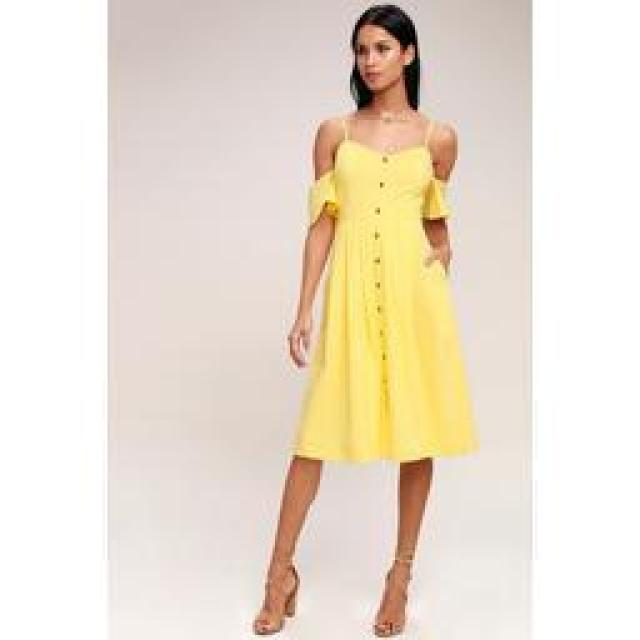dress: (286, 114, 482, 466)
